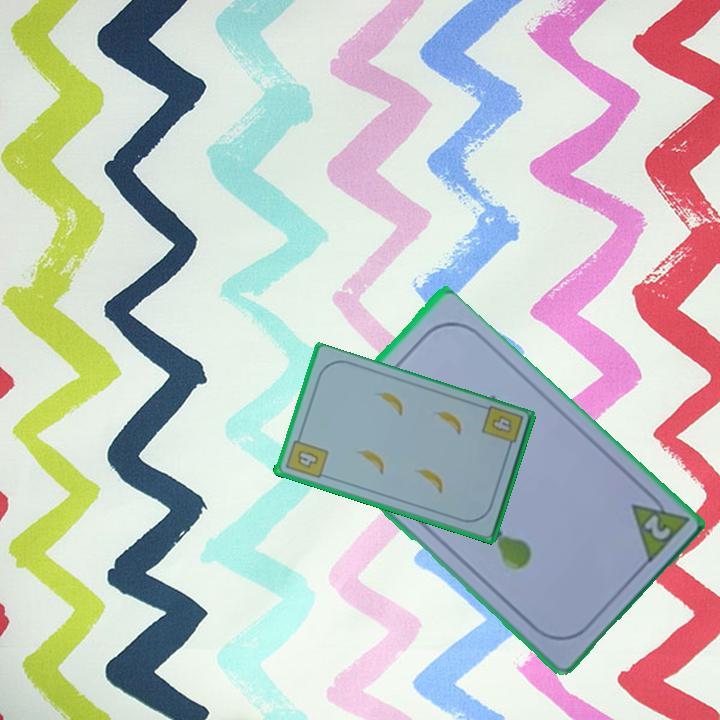2p: (626, 484, 690, 568)
4b: (478, 402, 526, 455), (281, 431, 330, 481)
